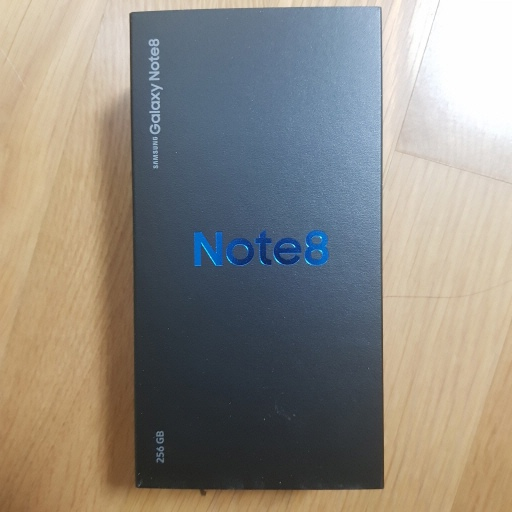Paper_0: (124, 5, 407, 503)
